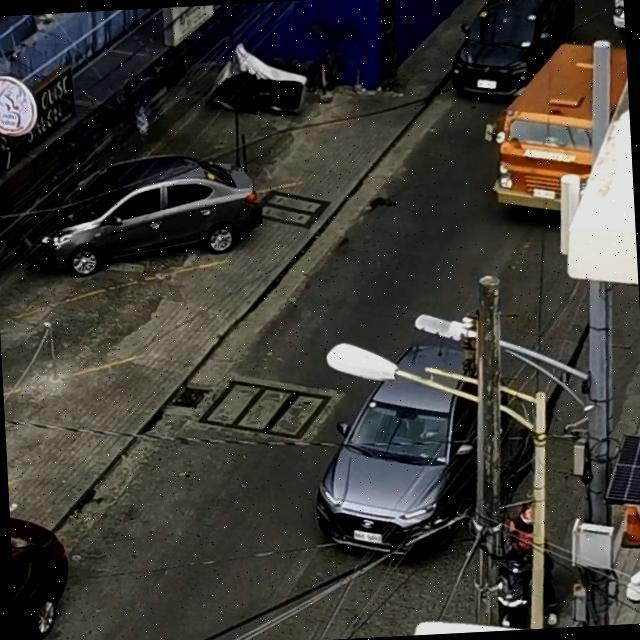Truck: (482, 34, 634, 215)
